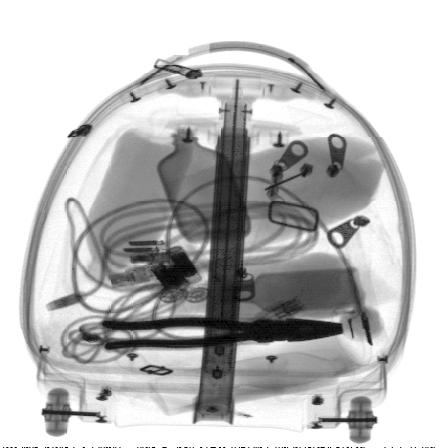Pliers: (103, 317, 346, 351)
